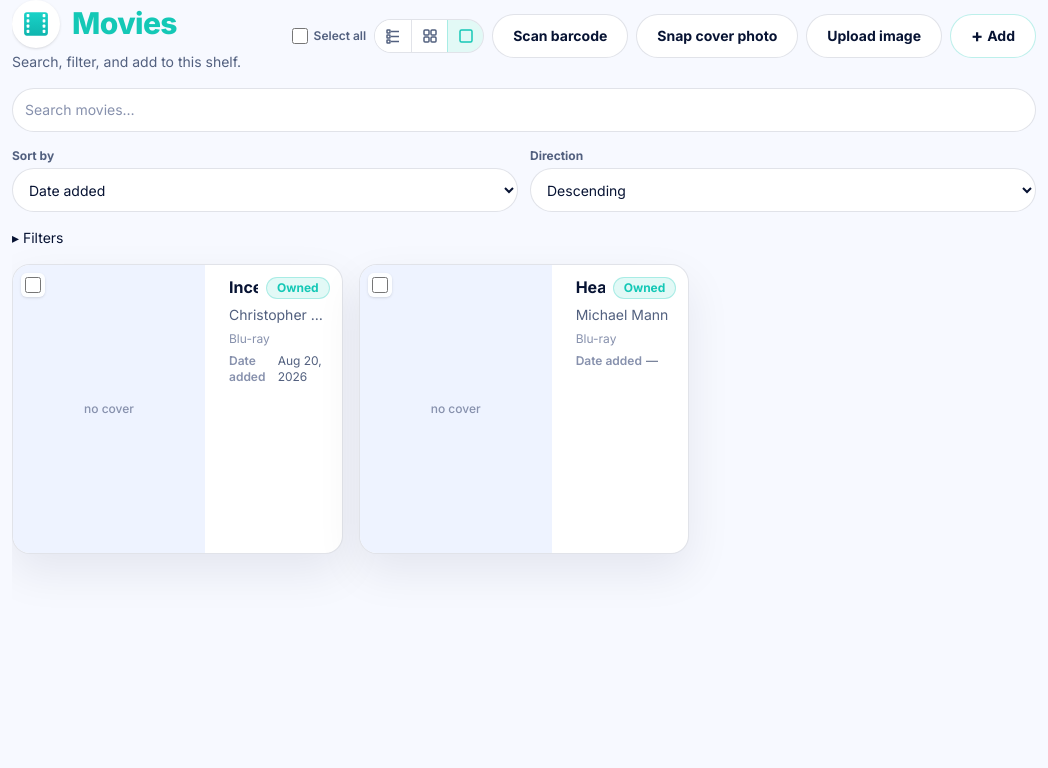
CollectionList — bulk select + update › "Select all on current page" toggles every rendered card
Expected: the heading "Inception" is shown, [229,277,258,297]
Click the checkbox named "Select all on current page". click: (300, 36)
box: [292,28,308,44]
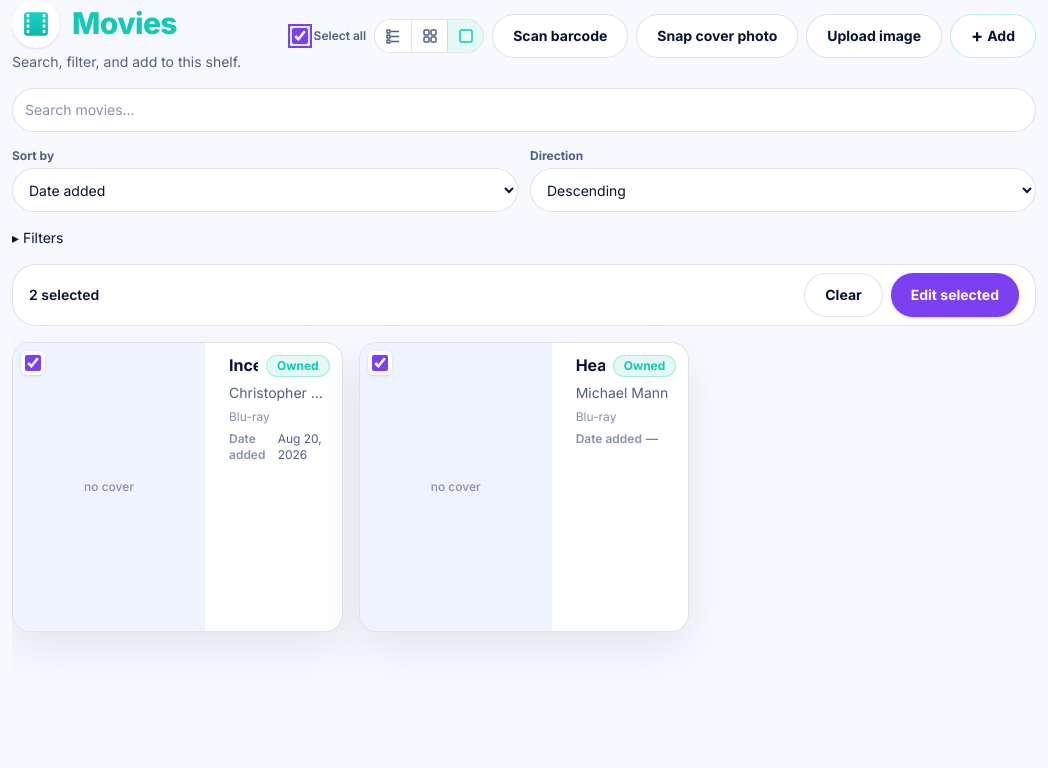
Result: the text "2 selected" is shown at [29,285,99,305]
Click the checkbox named "Select all on current page". click: (300, 36)
box: [292,28,308,44]
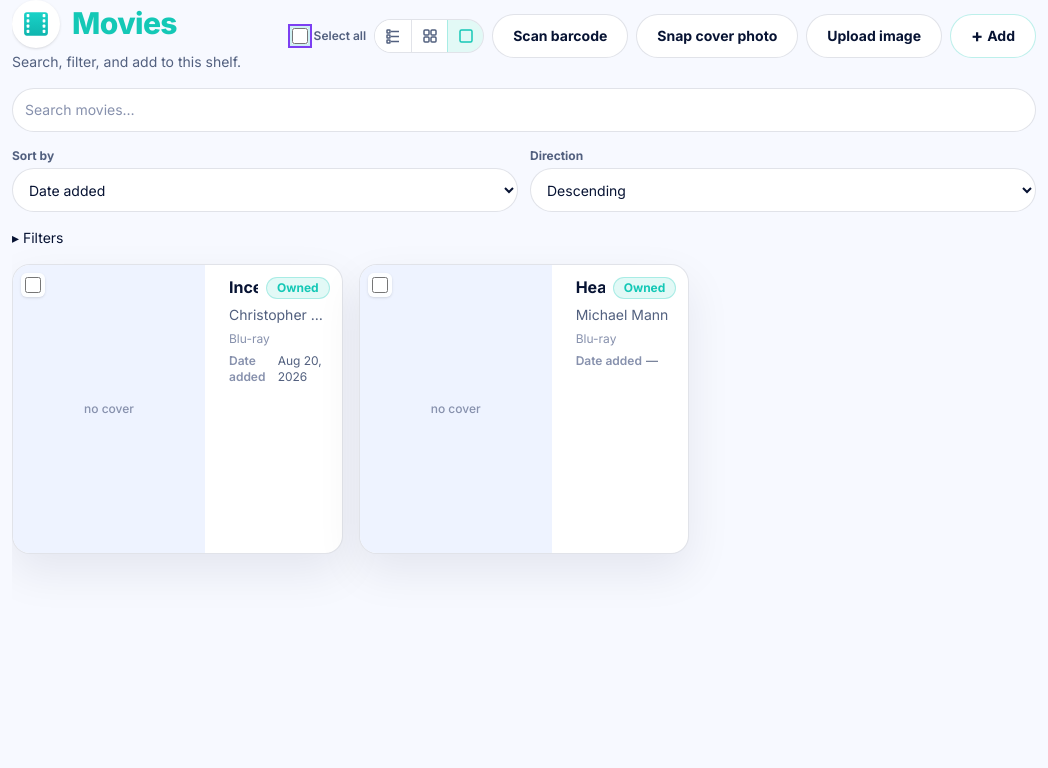
Result: the text "selected" is gone
